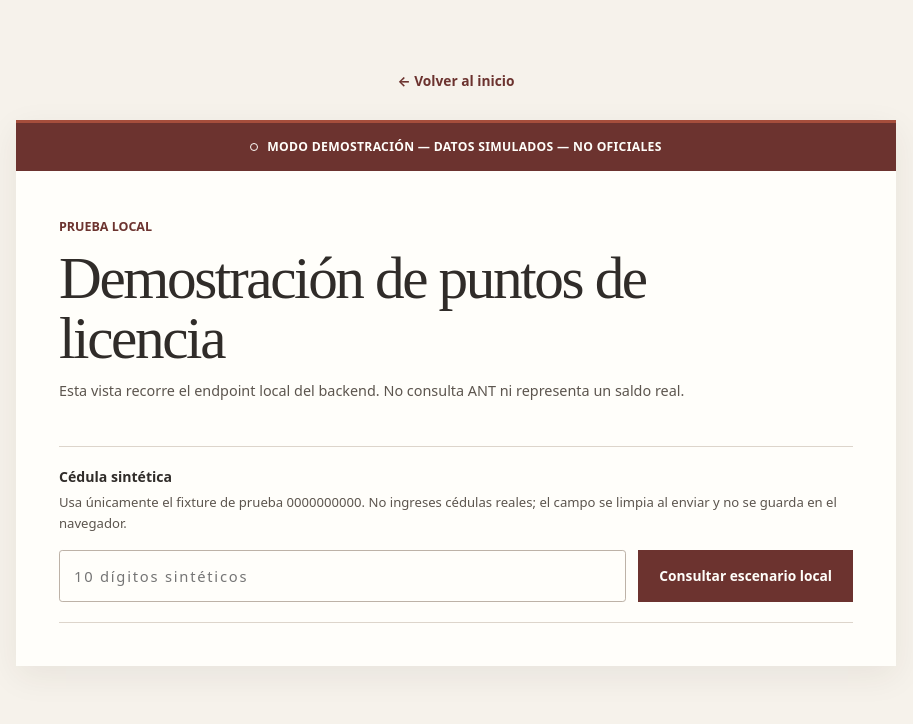
Test: demostración local de puntos ANT › muestra indisponibilidad controlada y requestId sin contenido del proveedor
The image size is (913, 724).
Type "0000000000" into the field labelled "Cédula sintética" at coordinates (343, 576), box top-left (59, 550), bottom-right (626, 602)
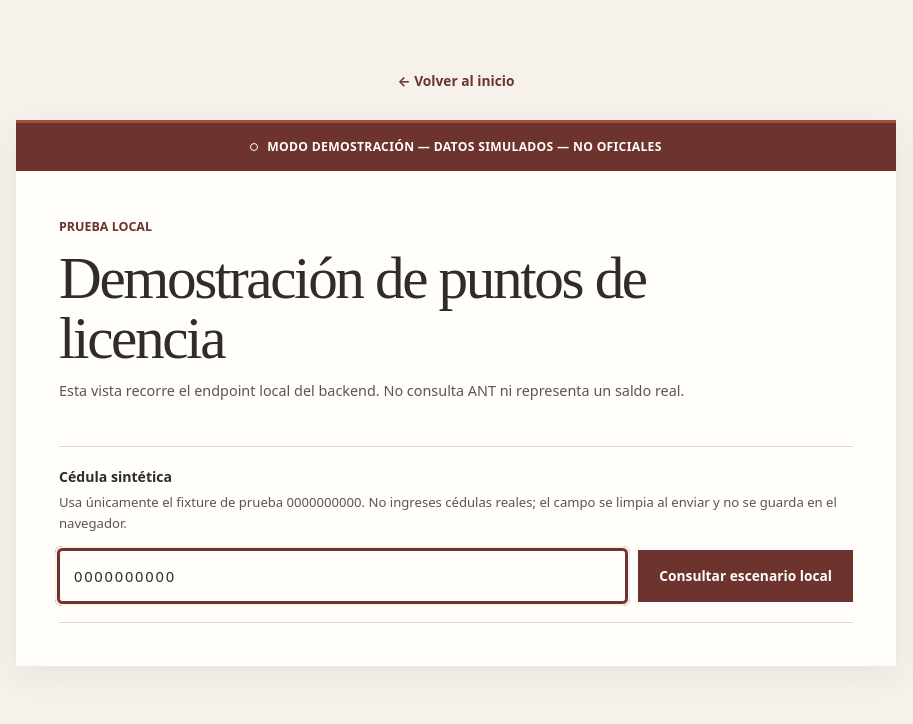
Click the button "Consultar escenario local" at coordinates (746, 576), box top-left (638, 550), bottom-right (853, 602)
(page scrolled)
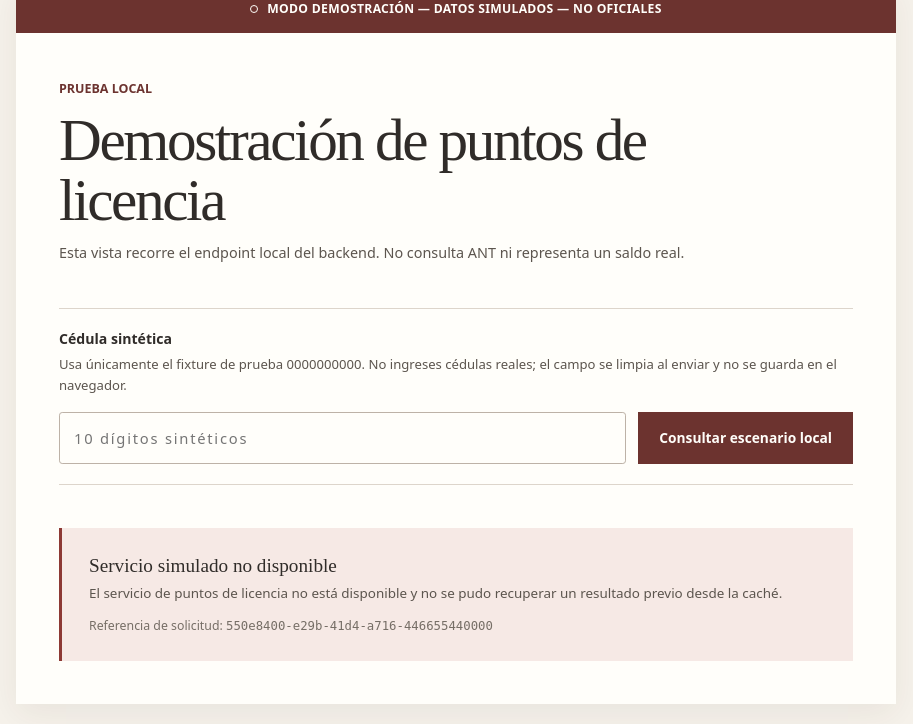
Expected: the message shows "Servicio simulado no disponible", top-left (89, 555), bottom-right (337, 576)
Expected: the message shows "no se pudo recuperar un resultado previo desde la caché", top-left (89, 584), bottom-right (782, 602)
Expected: the message shows "550e8400-e29b-41d4-a716-446655440000", top-left (226, 619), bottom-right (493, 633)
